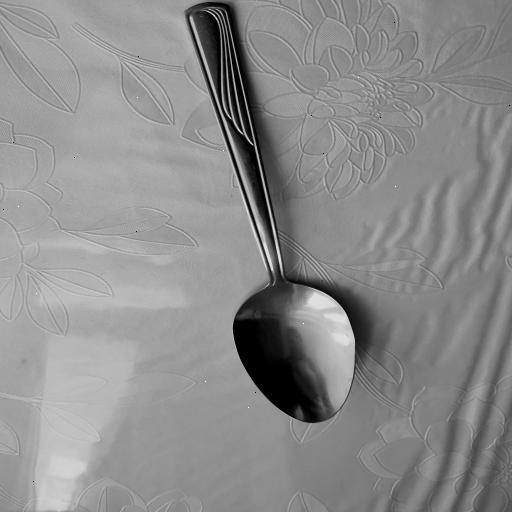spoon: (177, 0, 361, 425)
